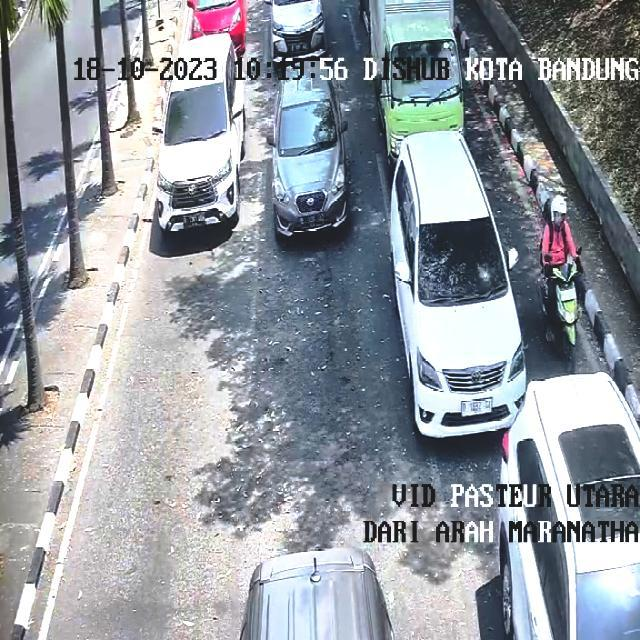car: (390, 131, 526, 437), (498, 374, 640, 639), (155, 35, 245, 231), (369, 0, 462, 159), (241, 549, 394, 640), (271, 80, 348, 236), (271, 0, 326, 58)
